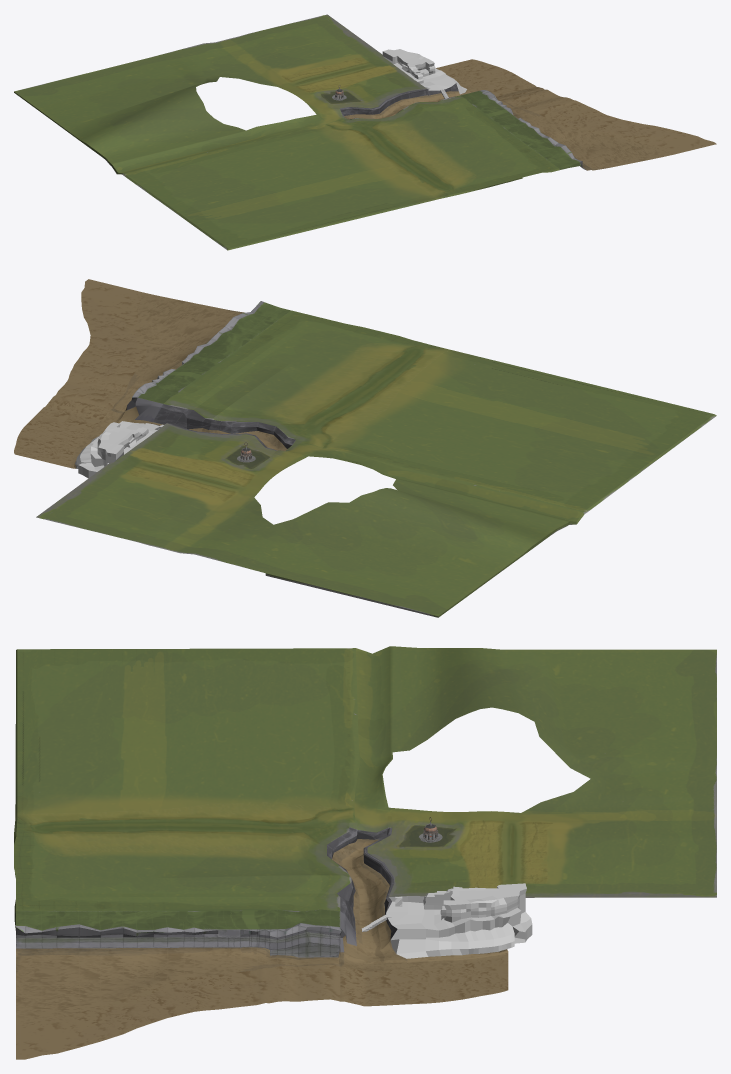
File: TerrainAndTemple-CombinedSteps.fbx
3 views of the same model, one above another, from view 1: azimuth 30°, elevation 25°; view 2: azimuth 150°, elevation 25°; view 3: azimuth 270°, elevation 25° (orthographic). The views are drawn at different scales.
Parts seen in each view (by area): view 1: TerrainSides, beachExtended, beach, cliff1, tunnel, tunnelSides; view 2: TerrainSides, beachExtended, beach, cliff1, tunnelSides, tunnel; view 3: TerrainSides, beach, beachExtended, cliff1, tunnel, tunnelSides.
Boxes of the visible parts, x1,y1,x2,y2 form: TerrainSides: [14, 14, 559, 250]; beachExtended: [436, 59, 716, 154]; beach: [460, 90, 672, 170]; cliff1: [382, 49, 466, 94]; tunnel: [344, 75, 499, 119]; tunnelSides: [339, 83, 458, 119]; TerrainSides: [36, 310, 716, 617]; beachExtended: [14, 279, 146, 467]; beach: [111, 293, 290, 422]; cliff1: [75, 421, 161, 478]; tunnelSides: [153, 404, 295, 450]; tunnel: [70, 406, 287, 468]; TerrainSides: [14, 646, 716, 912]; beach: [14, 909, 356, 1024]; beachExtended: [16, 955, 508, 1059]; cliff1: [386, 883, 532, 958]; tunnel: [332, 839, 508, 971]; tunnelSides: [327, 827, 397, 939].
Size of the model in its own units: 31551 by 2330 by 24054.
